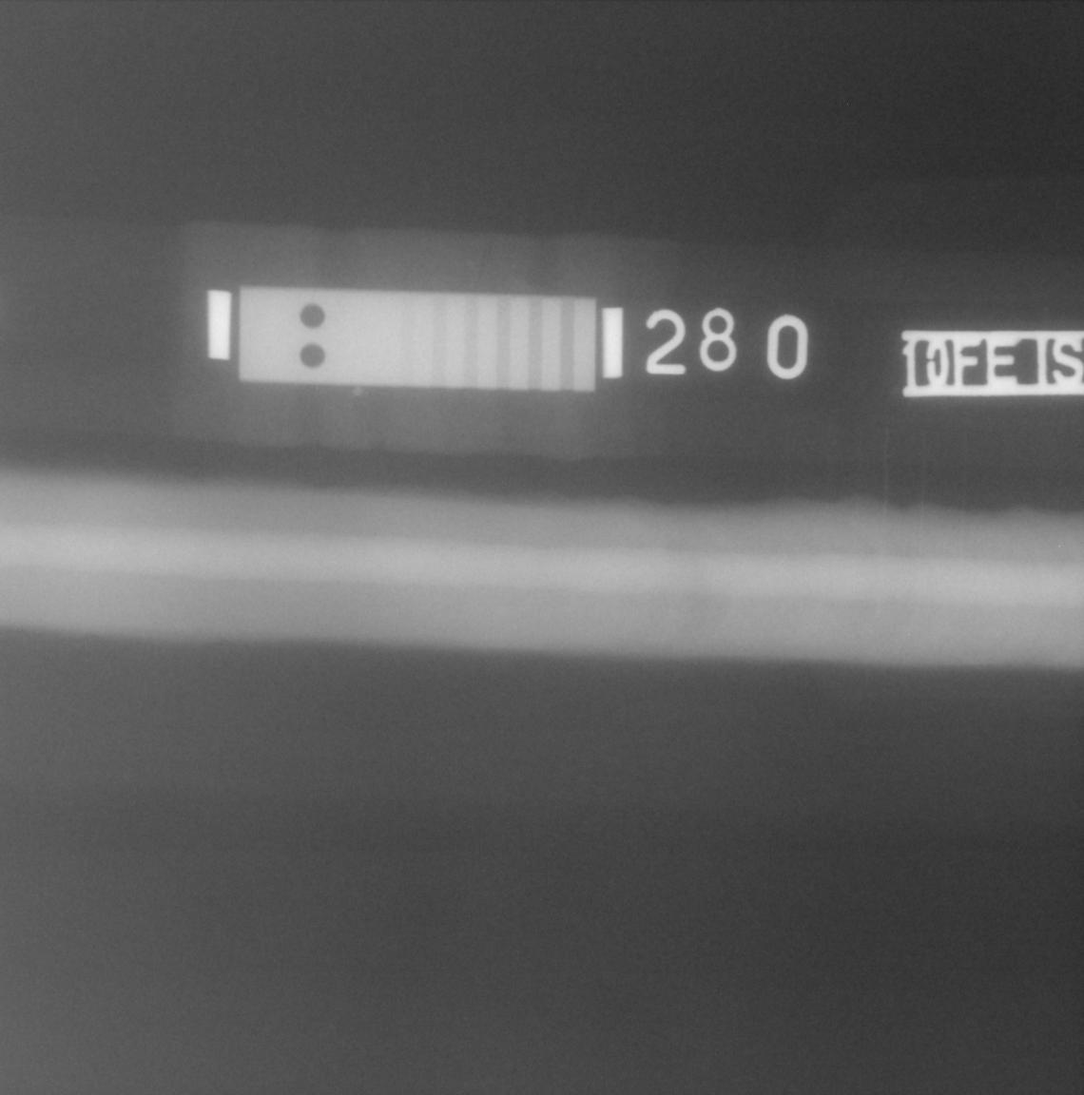Reference Standard 2: (238, 286, 597, 392)
